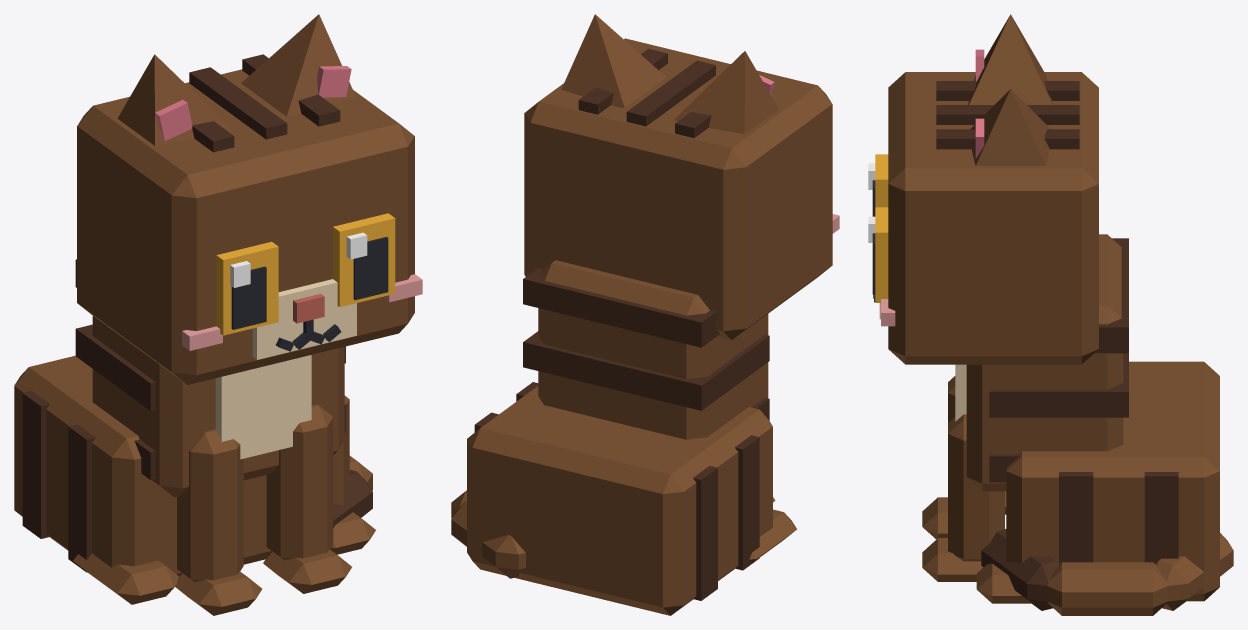
Rendered from CatCafe_Cat_Brownie_Sit.glb.
3 views of the same model, side by side, from view 1: azimuth 30°, elevation 25°; view 2: azimuth 150°, elevation 25°; view 3: azimuth 270°, elevation 25° (orthographic). The views are drawn at different scales.
Parts seen in each view (by area): view 1: CatCafe_Cat_Brownie_Sit_Head, CatCafe_Cat_Brownie_Sit_Body, CatCafe_Cat_Brownie_Sit_LegF2, CatCafe_Cat_Brownie_Sit_LegF1, CatCafe_Cat_Brownie_Sit_EarL, CatCafe_Cat_Brownie_Sit_Eye2, CatCafe_Cat_Brownie_Sit_Eye1, CatCafe_Cat_Brownie_Sit_EarR, CatCafe_Cat_Brownie_Sit_Tail; view 2: CatCafe_Cat_Brownie_Sit_Body, CatCafe_Cat_Brownie_Sit_Head, CatCafe_Cat_Brownie_Sit_EarL, CatCafe_Cat_Brownie_Sit_EarR, CatCafe_Cat_Brownie_Sit_Tail; view 3: CatCafe_Cat_Brownie_Sit_Head, CatCafe_Cat_Brownie_Sit_Body, CatCafe_Cat_Brownie_Sit_Tail, CatCafe_Cat_Brownie_Sit_LegF1, CatCafe_Cat_Brownie_Sit_EarL, CatCafe_Cat_Brownie_Sit_EarR, CatCafe_Cat_Brownie_Sit_Eye1, CatCafe_Cat_Brownie_Sit_LegF2, CatCafe_Cat_Brownie_Sit_Eye2.
Boxes of the visible parts, bbox=[...] form: CatCafe_Cat_Brownie_Sit_Head: bbox=[77, 54, 422, 384]; CatCafe_Cat_Brownie_Sit_Body: bbox=[14, 259, 375, 604]; CatCafe_Cat_Brownie_Sit_LegF2: bbox=[175, 429, 262, 615]; CatCafe_Cat_Brownie_Sit_LegF1: bbox=[263, 404, 351, 593]; CatCafe_Cat_Brownie_Sit_EarL: bbox=[241, 14, 355, 116]; CatCafe_Cat_Brownie_Sit_Eye2: bbox=[216, 241, 278, 335]; CatCafe_Cat_Brownie_Sit_Eye1: bbox=[333, 213, 395, 306]; CatCafe_Cat_Brownie_Sit_EarR: bbox=[117, 54, 232, 145]; CatCafe_Cat_Brownie_Sit_Tail: bbox=[333, 456, 372, 527]; CatCafe_Cat_Brownie_Sit_Body: bbox=[467, 260, 796, 615]; CatCafe_Cat_Brownie_Sit_Head: bbox=[524, 38, 839, 340]; CatCafe_Cat_Brownie_Sit_EarL: bbox=[561, 14, 665, 107]; CatCafe_Cat_Brownie_Sit_EarR: bbox=[674, 51, 778, 134]; CatCafe_Cat_Brownie_Sit_Tail: bbox=[451, 490, 525, 578]; CatCafe_Cat_Brownie_Sit_Head: bbox=[873, 72, 1098, 364]; CatCafe_Cat_Brownie_Sit_Body: bbox=[955, 234, 1219, 603]; CatCafe_Cat_Brownie_Sit_Tail: bbox=[981, 529, 1233, 615]; CatCafe_Cat_Brownie_Sit_LegF1: bbox=[922, 414, 1004, 581]; CatCafe_Cat_Brownie_Sit_EarL: bbox=[970, 89, 1050, 165]; CatCafe_Cat_Brownie_Sit_EarR: bbox=[968, 14, 1053, 104]; CatCafe_Cat_Brownie_Sit_Eye1: bbox=[868, 207, 888, 302]; CatCafe_Cat_Brownie_Sit_LegF2: bbox=[922, 376, 955, 539]; CatCafe_Cat_Brownie_Sit_Eye2: bbox=[868, 154, 888, 216].
Size of the model in its own units: 1.05 by 1.85 by 1.22.
Materials: 1 (1 with a texture image).
